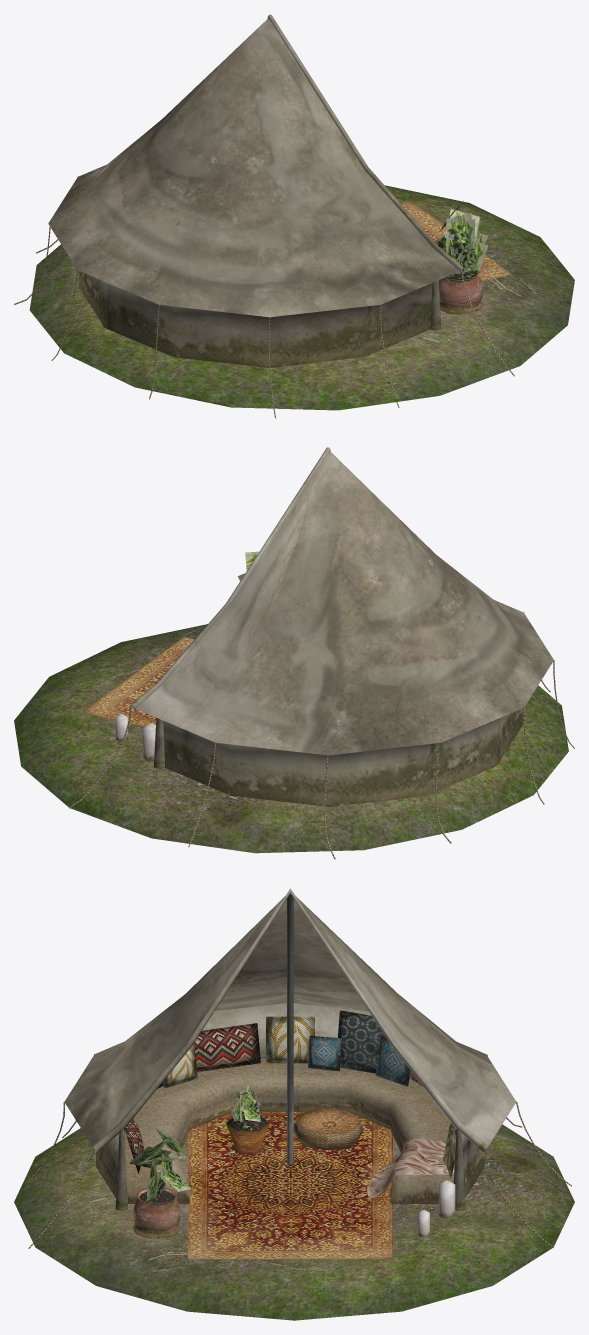
3 renders of one model, top to bottom at view 1: azimuth 30°, elevation 25°; view 2: azimuth 150°, elevation 25°; view 3: azimuth 270°, elevation 25°, orthographic.
Visible parts, largest first — view 1: tent, Sphere.001, Plane.010, tentfold1, plantpot, carpet, ROPES; view 2: tent, Sphere.001, carpet, tentfold1, ROPES; view 3: Sphere.001, tent, carpet, bench, pillow1.009, tentfold1, pouf, blanket, plantpot, pole, Plane.010, tent.001 (+4 smaller).
Part boxes in pixels (bbox=[...]): tent: bbox=[48, 19, 461, 367]; Sphere.001: bbox=[29, 185, 574, 410]; Plane.010: bbox=[435, 201, 488, 276]; tentfold1: bbox=[267, 14, 463, 273]; plantpot: bbox=[439, 271, 483, 314]; carpet: bbox=[401, 201, 511, 281]; ROPES: bbox=[14, 176, 514, 418]; tent: bbox=[133, 451, 553, 807]; Sphere.001: bbox=[14, 624, 568, 853]; carpet: bbox=[82, 637, 194, 726]; tentfold1: bbox=[131, 447, 330, 710]; ROPES: bbox=[69, 612, 574, 859]; Sphere.001: bbox=[14, 1124, 574, 1320]; tent: bbox=[64, 896, 516, 1197]; carpet: bbox=[188, 1111, 392, 1259]; bench: bbox=[124, 1058, 453, 1204]; pillow1.009: bbox=[124, 1010, 456, 1178]; tentfold1: bbox=[92, 888, 488, 1152]; pouf: bbox=[293, 1107, 362, 1150]; blanket: bbox=[366, 1139, 454, 1198]; plantpot: bbox=[133, 1188, 180, 1238]; pole: bbox=[287, 894, 293, 1164]; Plane.010: bbox=[129, 1128, 191, 1202]; tent.001: bbox=[115, 1129, 465, 1210].
Size of the model in its own units: 7.5 by 4.36 by 7.32.
5 materials, 5 textured.
